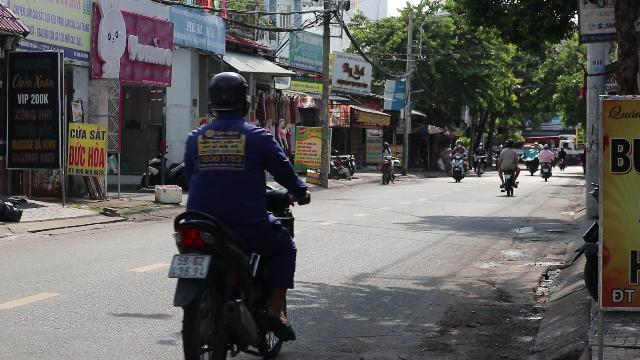helmet: (202, 71, 254, 121)
licenseplate: (169, 255, 209, 278)
motorcyclist: (162, 69, 306, 357)
